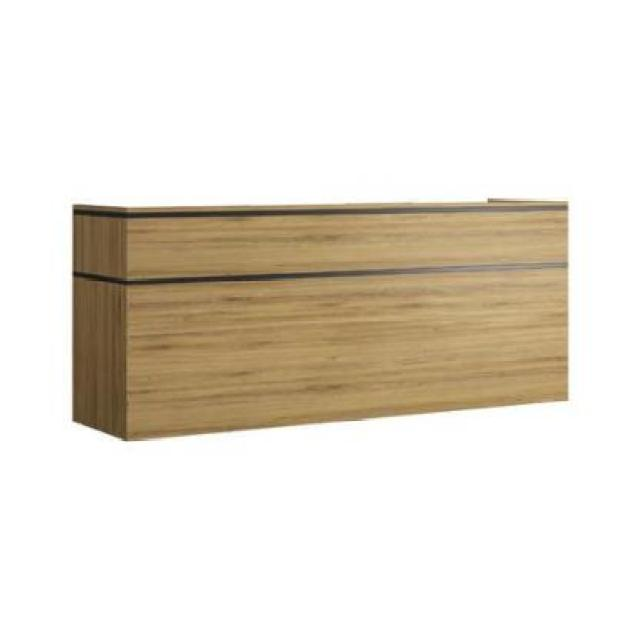frontdesk: (52, 186, 592, 460)
